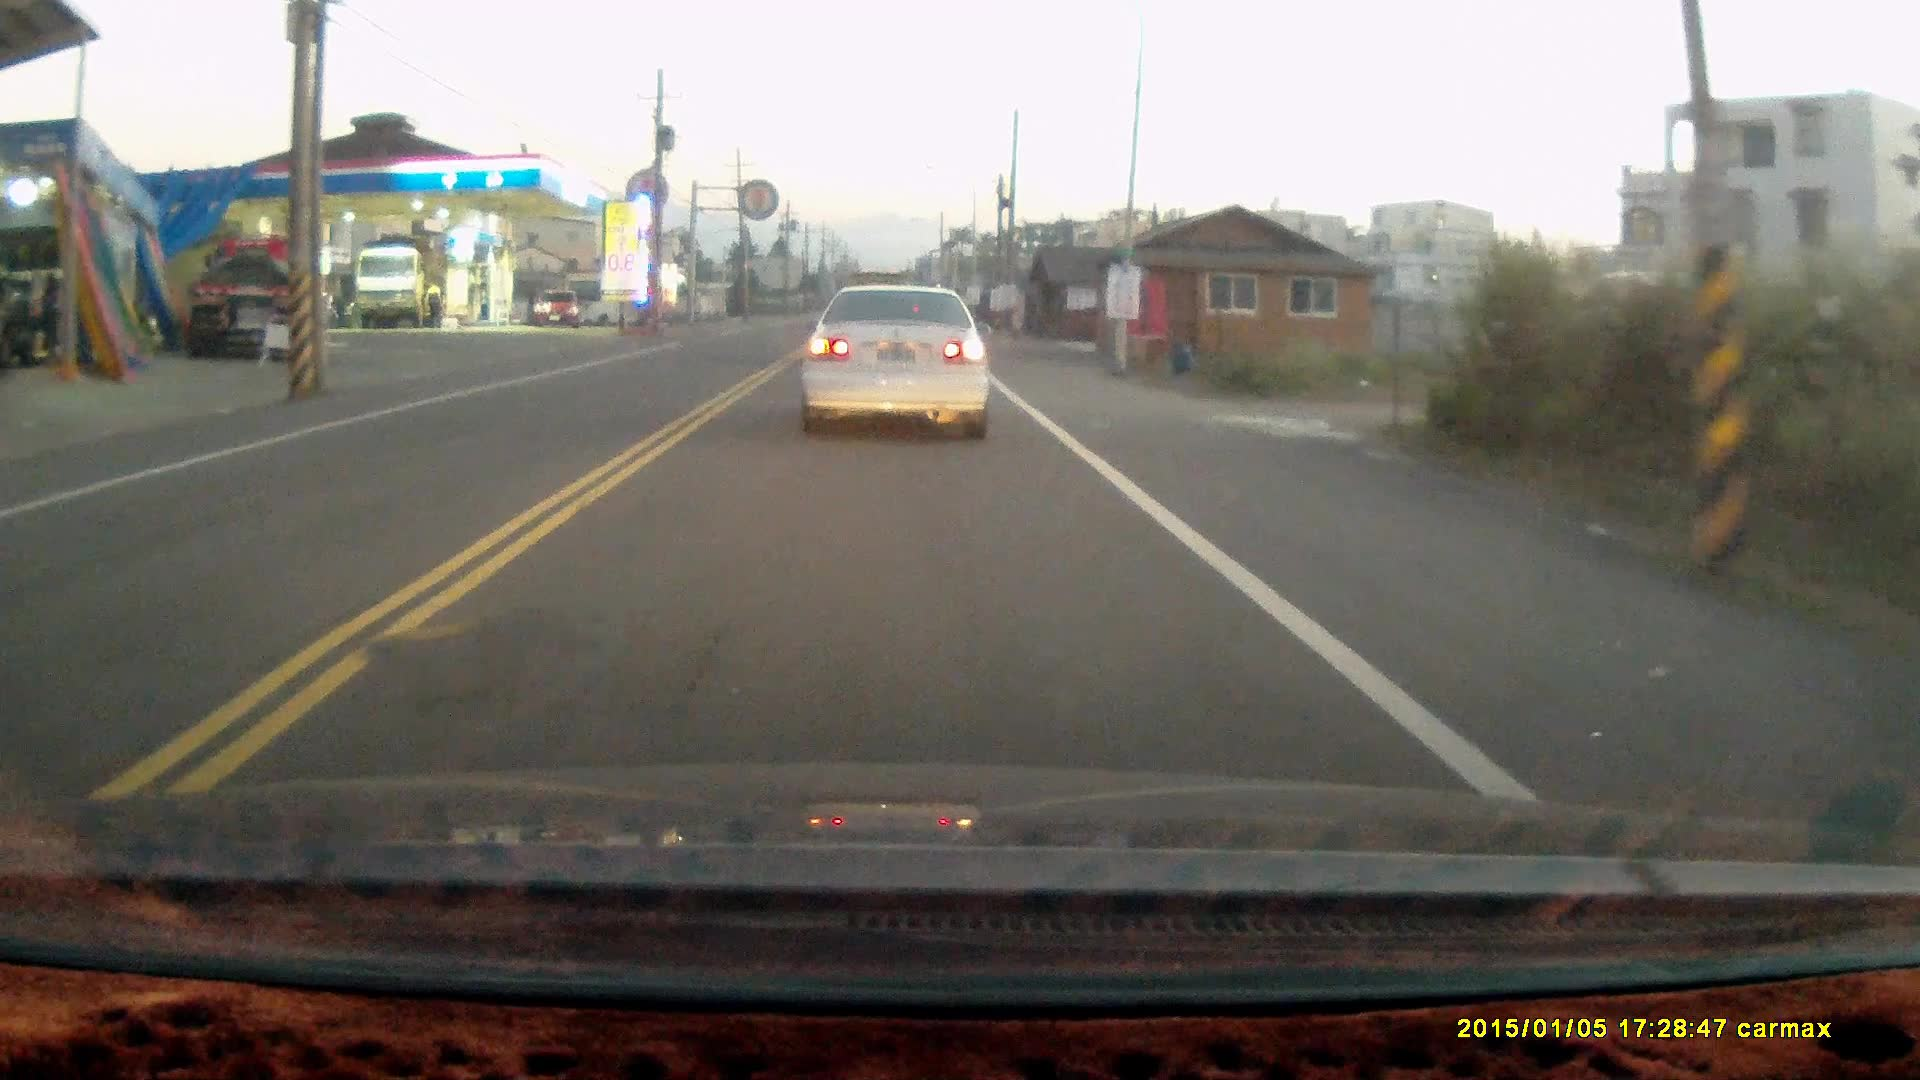pedestrian: (422, 274, 444, 324)
vehicle: (795, 278, 995, 446), (182, 236, 299, 360), (356, 246, 441, 334), (535, 288, 579, 327)
